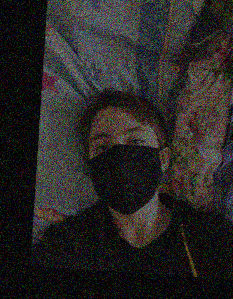with_mask: (86, 117, 163, 215)
